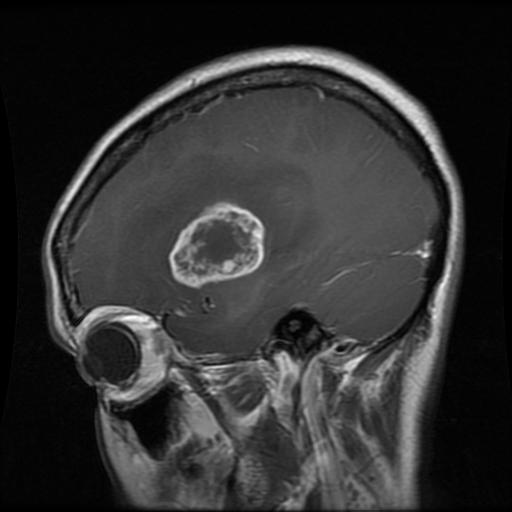Gliomia_tumour: (167, 201, 267, 288)
